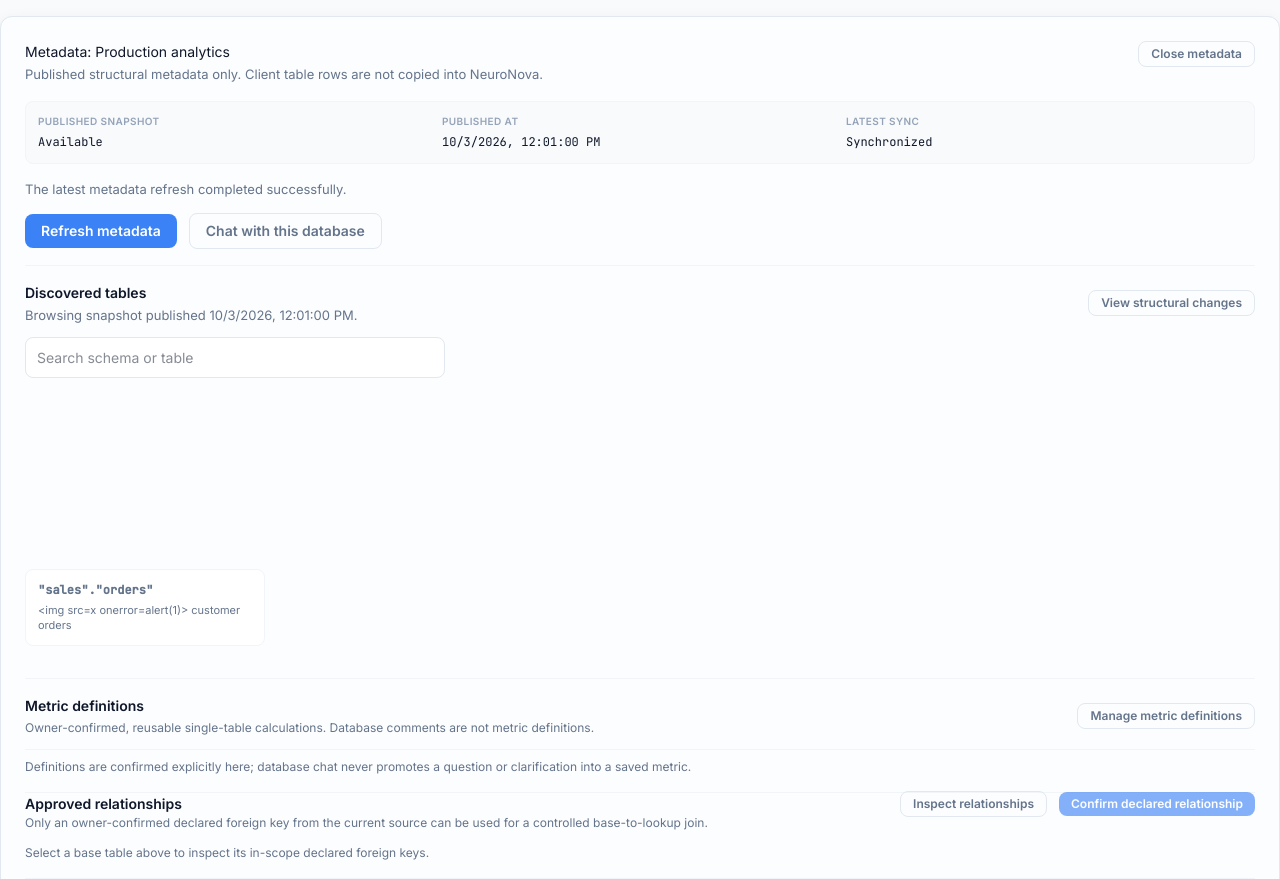
Test: shows a bounded comparison state without guessing table renames
This screenshot has width=1280, height=879.
Check: the button "\"sales\".\"orders\"" is shown, box [25,569,265,646]
Step 1. Click the button "View structural changes" → x=1172, y=303, box [1088,290,1255,316]
(page scrolled)
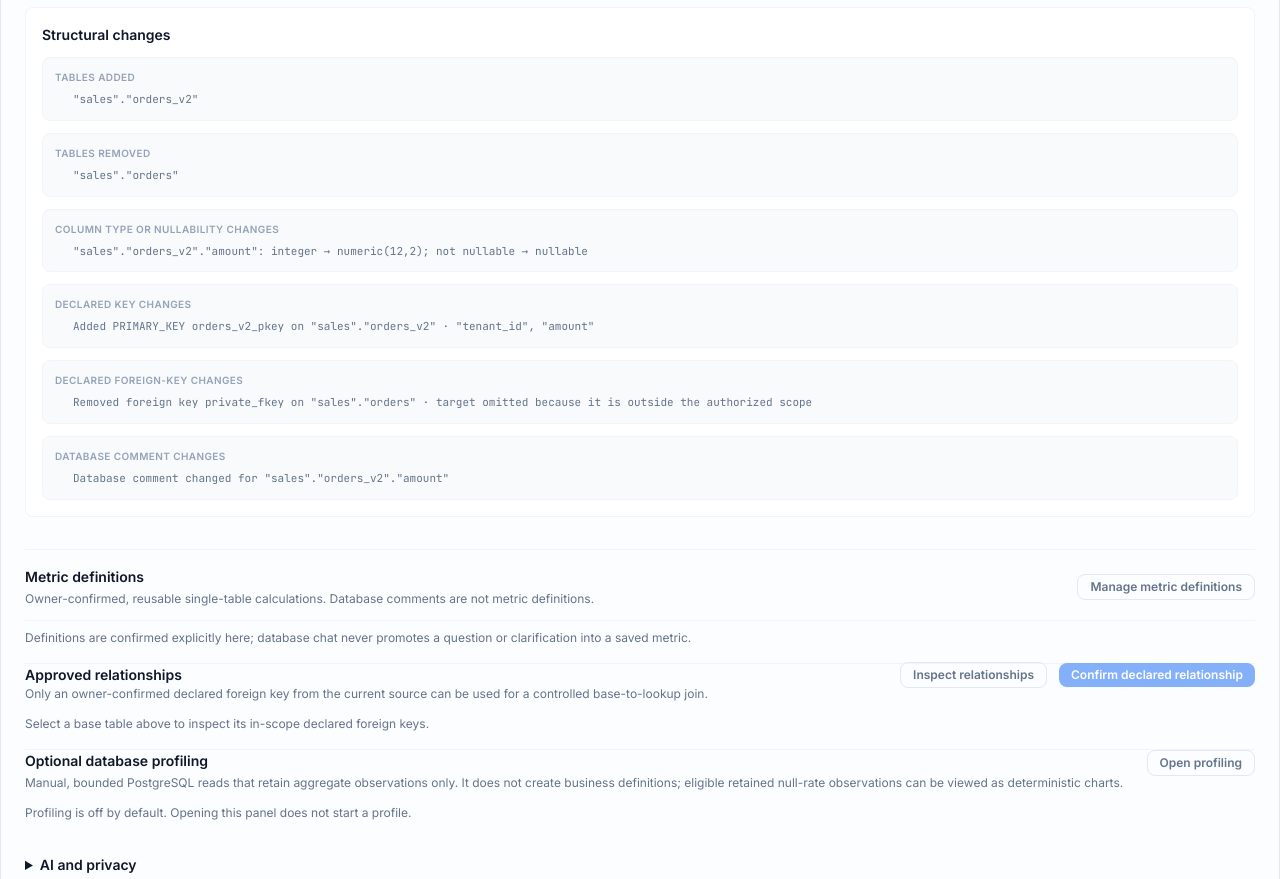
Check: the heading "Tables added" is shown, box [55,71,135,83]
Check: the heading "Tables removed" is shown, box [55,147,151,159]
Check: the list item "\"sales\".\"orders_v2\"" is shown, box [73,92,198,106]
